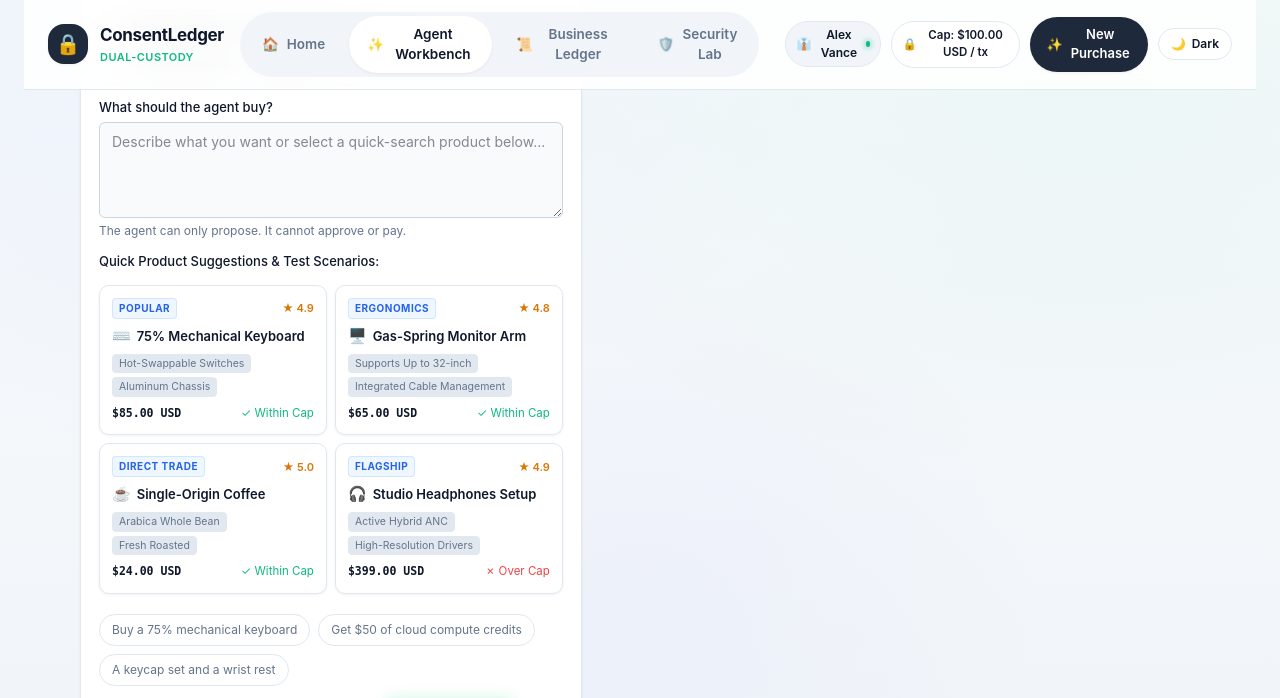
Phase 7B Dashboard UI Components › Phase 7C: Interactive Spending Policy Modal & Product Discovery Studio › renders Why Passkeys explainer and quick-search product suggestions
(page scrolled)
Check: the text "⌨️ 75% Mechanical Keyboard" is shown, box x1=112 y1=325 x2=314 y2=348
Check: the text "🖥️ Gas-Spring Monitor Arm" is shown, box x1=348 y1=325 x2=550 y2=348
Click the button with aria-label "Select 75% Mechanical Keyboard for $85.00 USD": (213, 360) x1=99 y1=285 x2=327 y2=435
(page scrolled)
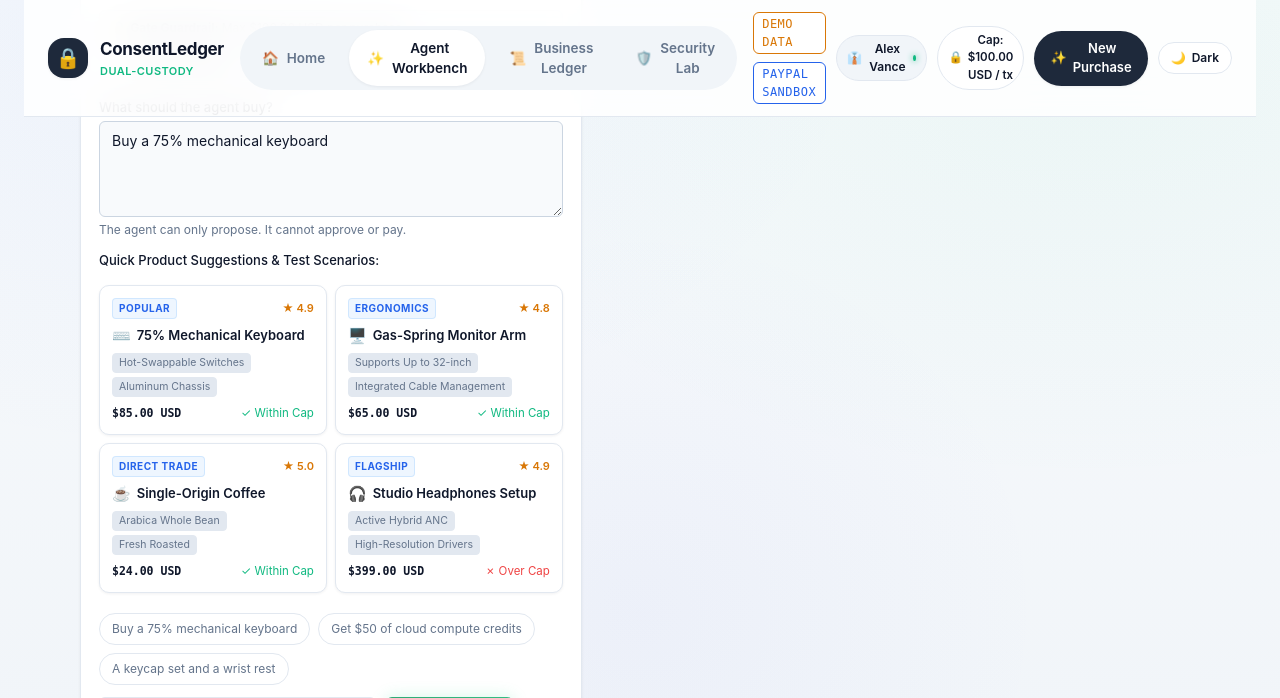
Check: the text box labelled "What should the agent buy?" holds "Buy a 75% mechanical keyboard", box x1=99 y1=121 x2=563 y2=217
